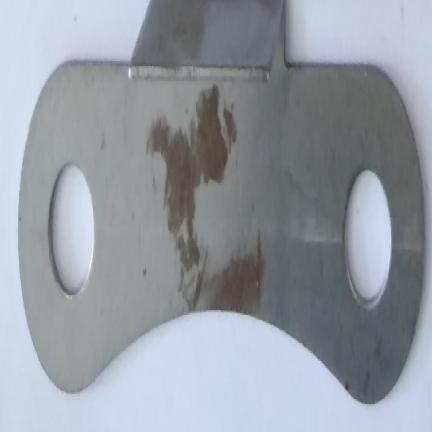besi_tidak_karat: (18, 0, 425, 402)
